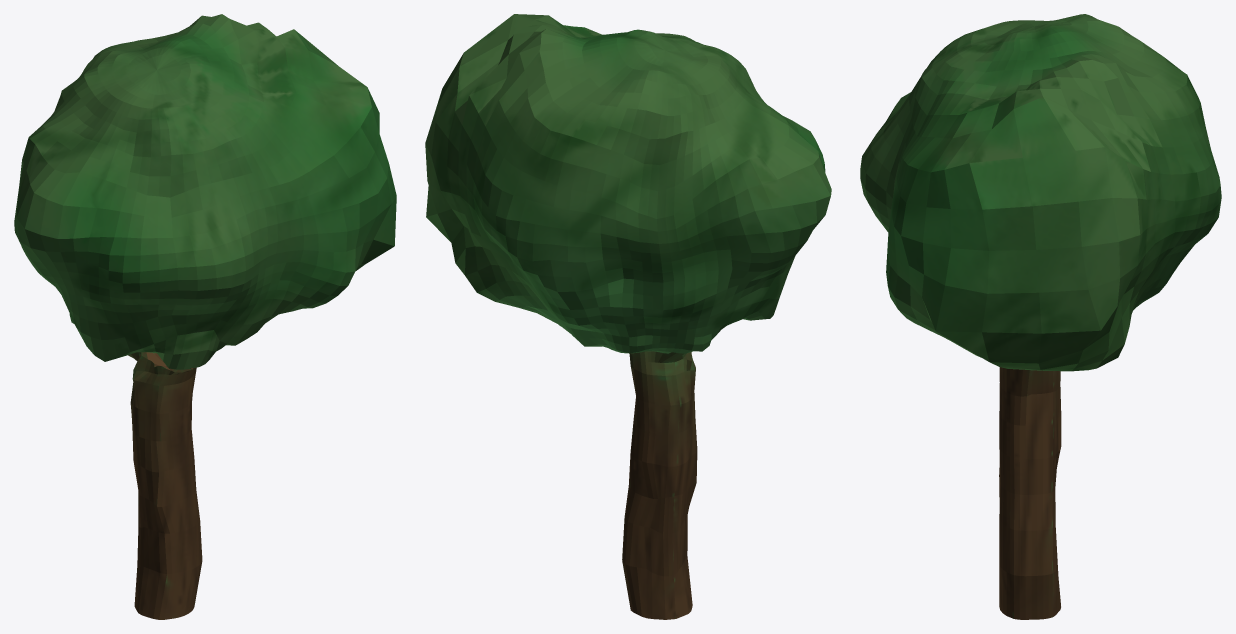
File: tree.obj
3 renders of one model, left to right at view 1: azimuth 30°, elevation 25°; view 2: azimuth 150°, elevation 25°; view 3: azimuth 270°, elevation 25°, orthographic. The views are drawn at different scales.
Visible parts, largest first — view 1: Cube_Cube.001; view 2: Cube_Cube.001; view 3: Cube_Cube.001.
Part boxes in pixels (x1=…): Cube_Cube.001: x1=14, y1=14, x2=396, y2=619; Cube_Cube.001: x1=425, y1=14, x2=831, y2=619; Cube_Cube.001: x1=860, y1=14, x2=1221, y2=619.
Bounding box in the file's own units: 12.46 × 18.6 × 10.28.
